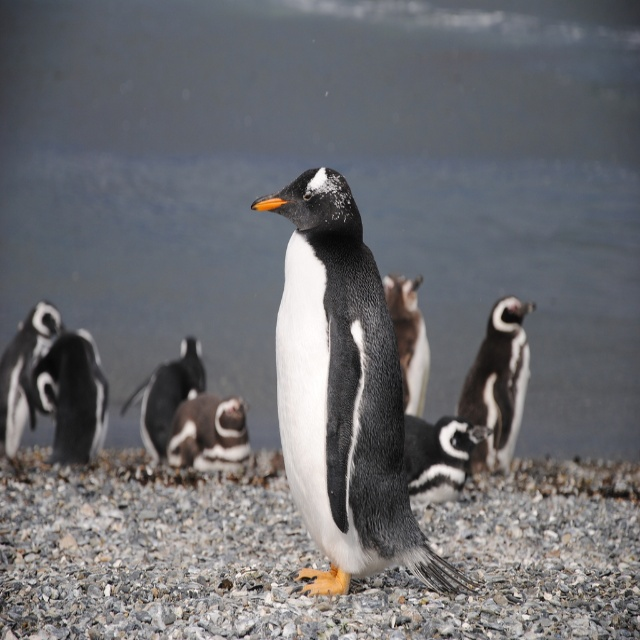Penguin: (0, 169, 537, 597)
